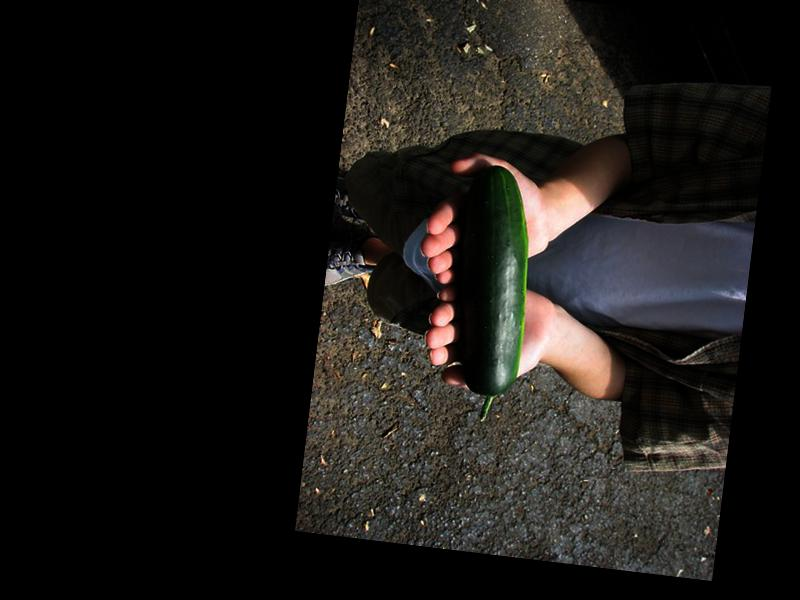Cucumber: (439, 164, 541, 426)
